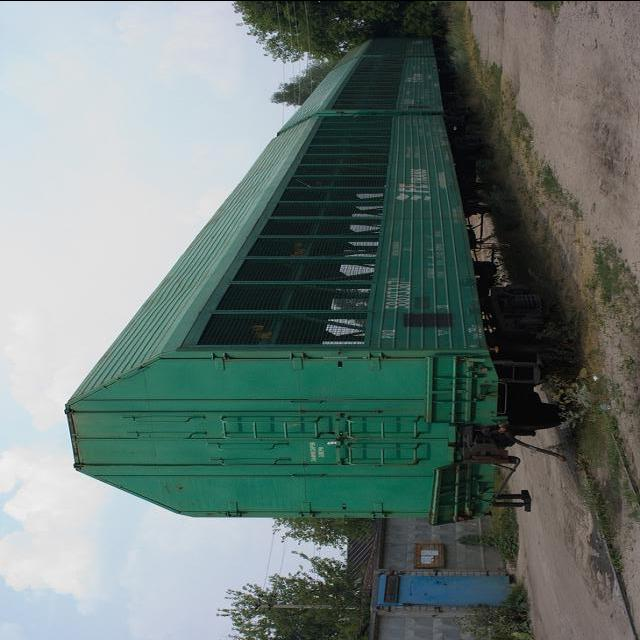wagon: (382, 278, 416, 310)
